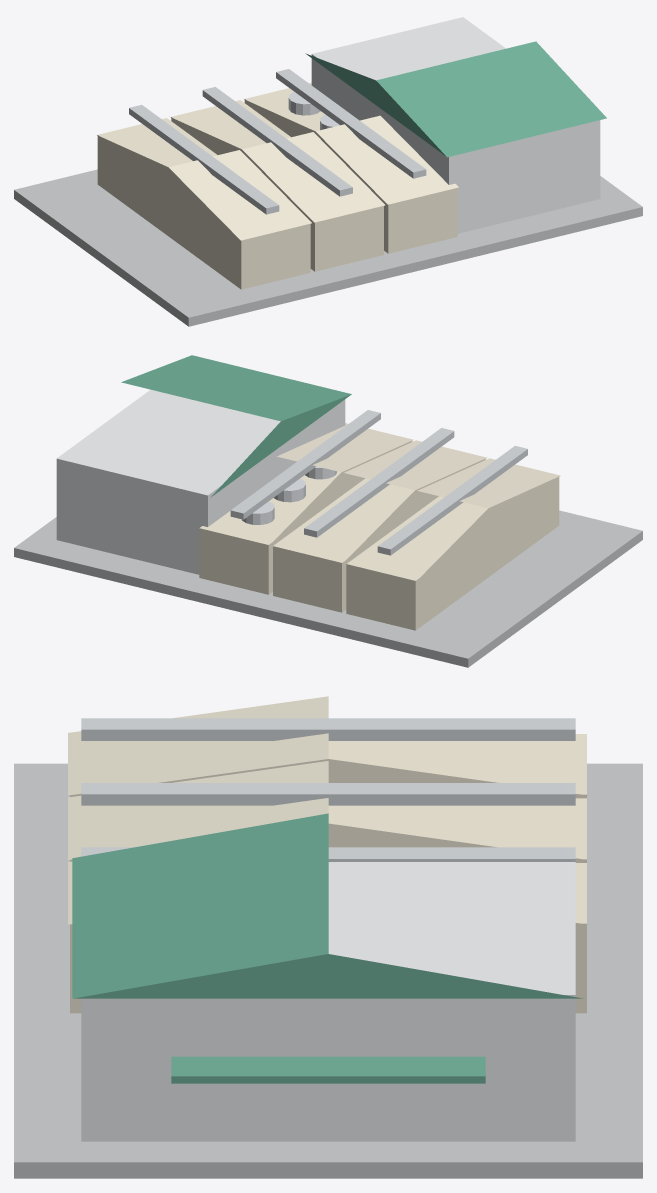
Rendered from lm_104_trang_trai_rau_hoa_cong_nghe_cao_ka_do_don_duong_agritech.glb.
3 views of the same model, one above another, from view 1: azimuth 30°, elevation 25°; view 2: azimuth 150°, elevation 25°; view 3: azimuth 270°, elevation 25° (orthographic). The views are drawn at different scales.
Visible parts, largest first — view 1: lm_104_trang_trai_rau_hoa_cong_nghe_cao_ka_do_don_duong_agri; view 2: lm_104_trang_trai_rau_hoa_cong_nghe_cao_ka_do_don_duong_agri; view 3: lm_104_trang_trai_rau_hoa_cong_nghe_cao_ka_do_don_duong_agri.
Part boxes in pixels (box(x1,y1,x2,y2)): lm_104_trang_trai_rau_hoa_cong_nghe_cao_ka_do_don_duong_agri: box(14, 17, 642, 326); lm_104_trang_trai_rau_hoa_cong_nghe_cao_ka_do_don_duong_agri: box(14, 355, 642, 667); lm_104_trang_trai_rau_hoa_cong_nghe_cao_ka_do_don_duong_agri: box(14, 696, 642, 1178).
Size of the model in its own units: 42 by 10.2 by 28.
